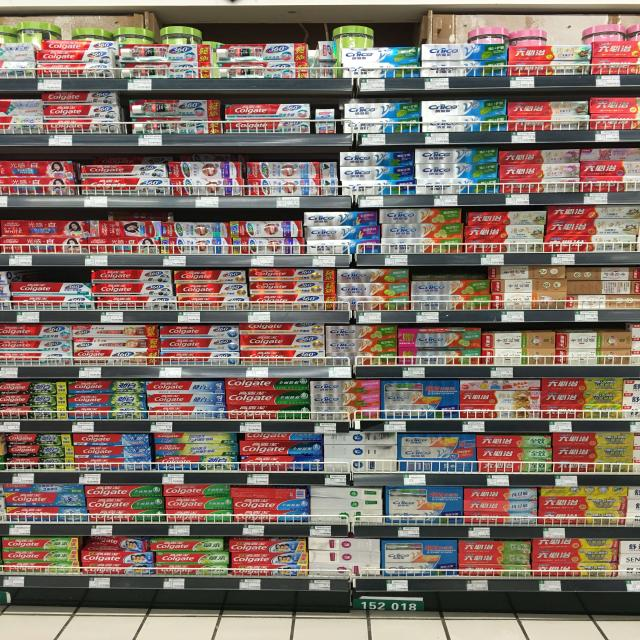unorganised: (1, 23, 205, 43), (240, 432, 325, 469), (567, 267, 640, 296), (153, 432, 241, 454), (470, 26, 549, 45), (78, 163, 168, 178), (82, 536, 148, 554), (332, 26, 376, 51), (581, 25, 640, 41), (582, 147, 640, 163)
